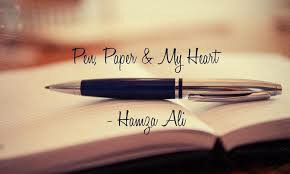pen: (39, 80, 286, 103)
